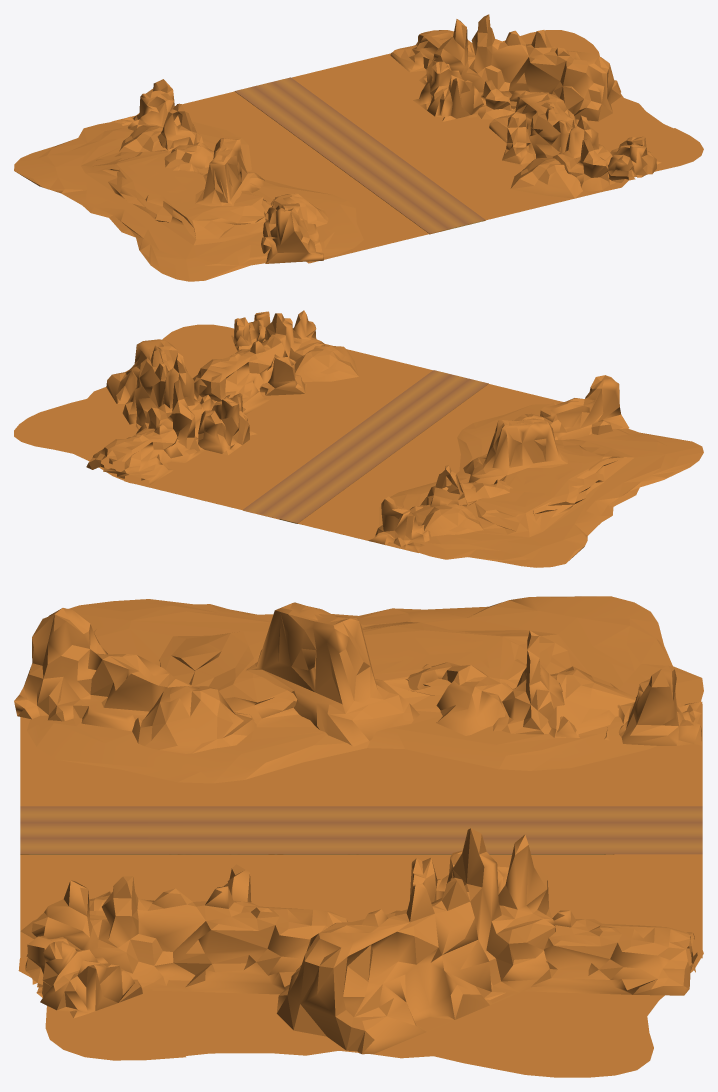
The model's file is dessertnew1.fbx.
3 views of the same model, one above another, from view 1: azimuth 30°, elevation 25°; view 2: azimuth 150°, elevation 25°; view 3: azimuth 270°, elevation 25° (orthographic). The views are drawn at different scales.
Parts seen in each view (by area): view 1: Plateau_desert_002.002, Cube; view 2: Plateau_desert_002.002, Cube; view 3: Plateau_desert_002.002, Cube.
Boxes of the visible parts, x1,y1,x2,y2 form: Plateau_desert_002.002: (14, 14, 703, 281); Cube: (114, 53, 605, 263); Plateau_desert_002.002: (14, 310, 703, 567); Cube: (124, 343, 563, 552); Plateau_desert_002.002: (14, 596, 703, 1077); Cube: (20, 704, 702, 958).
Size of the model in its own units: 9022 by 1230 by 5462.
